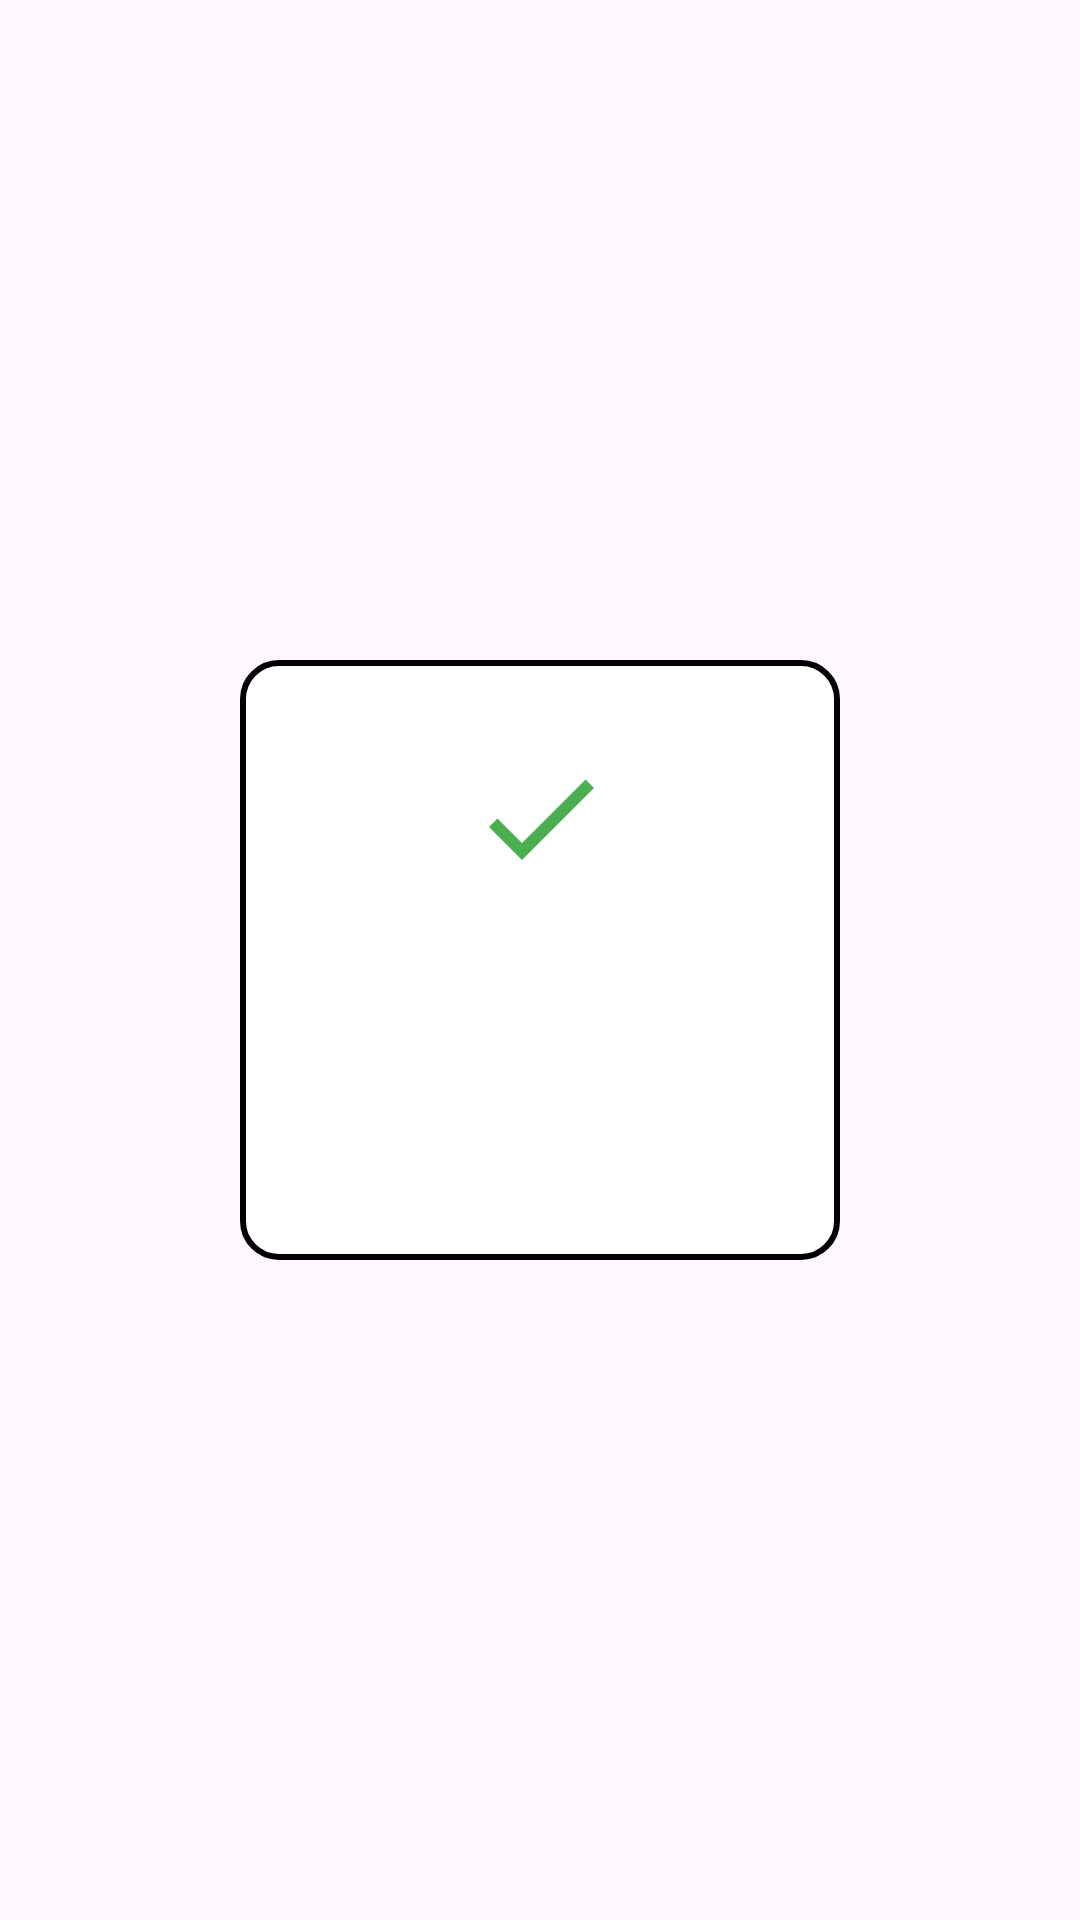

Named icons in this screenshot (1080 x 1920) and their centers, point (x, y):
correct: point (541, 819)
